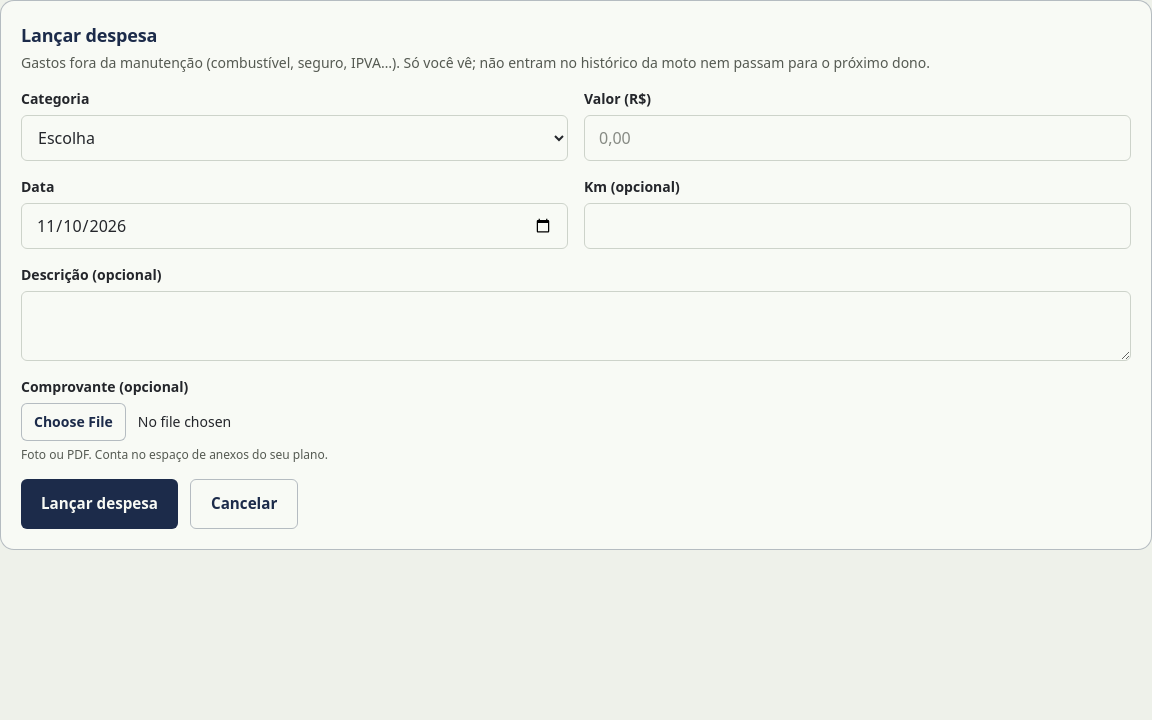
Test case: ExpenseForm › valida antes de enviar
The width and height of the screenshot is (1152, 720).
Click the button "Lançar despesa": x=100, y=504 [21,479,178,529]
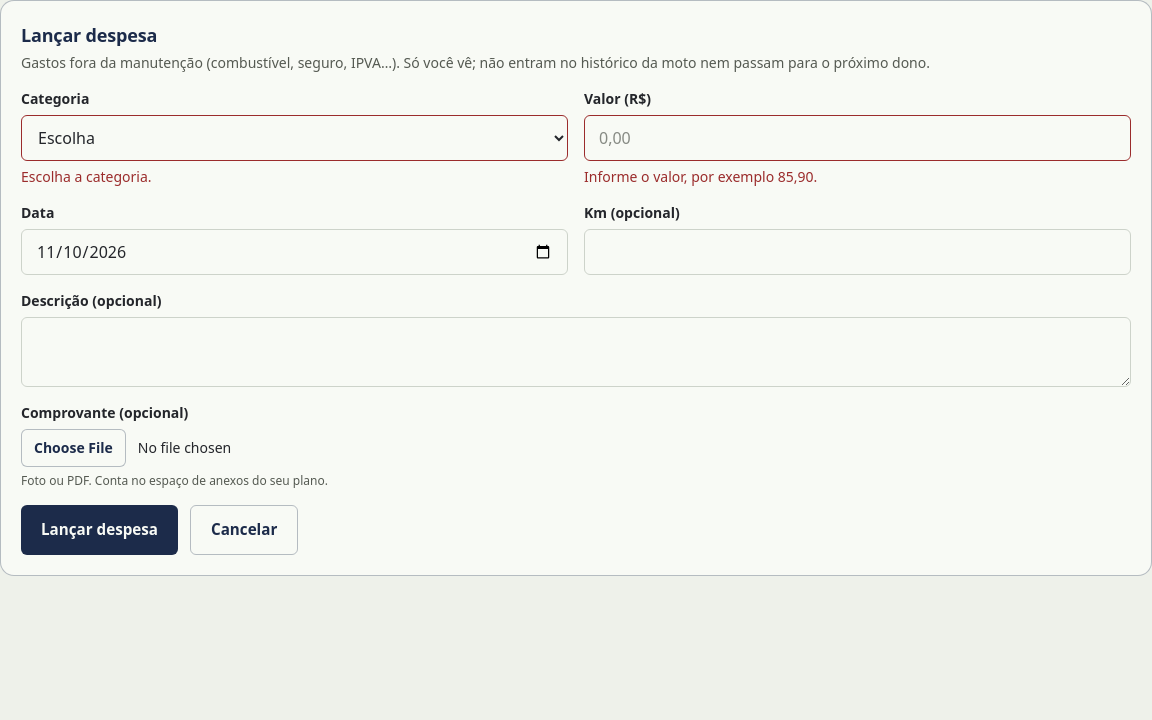
Expected: the text "Escolha a categoria." is shown, [21,167,152,186]
Expected: the text "Informe o valor, por exemplo 85,90." is shown, [584,167,817,186]
